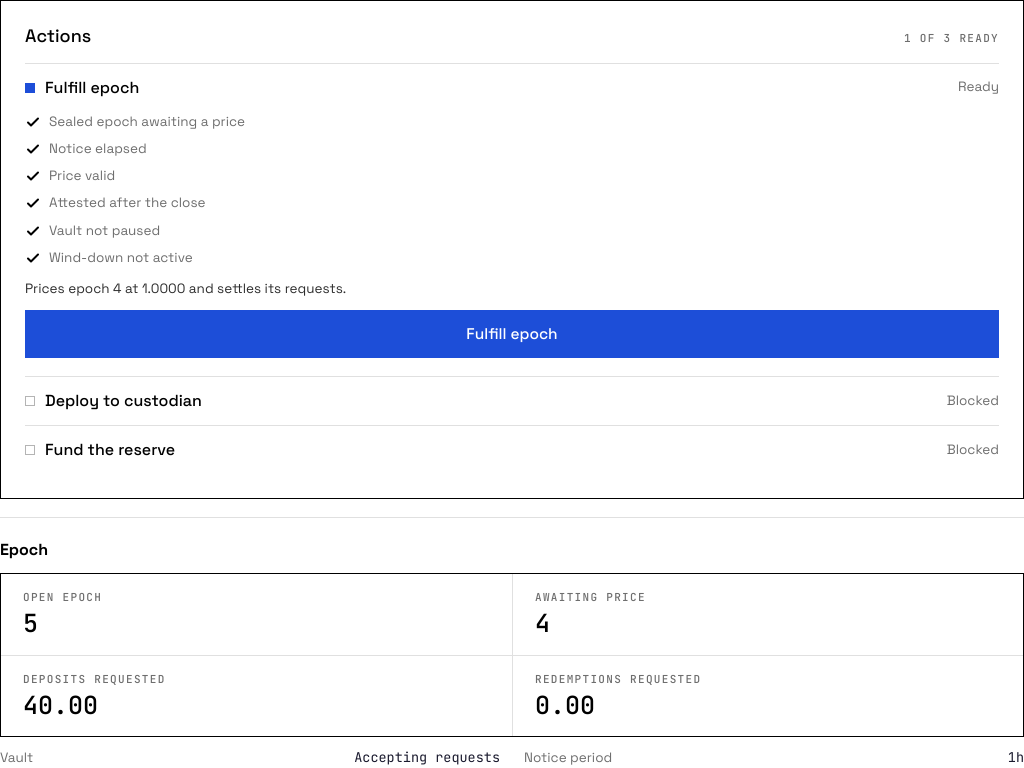
CycleSection › says the balance is unavailable and holds the funding while the wallet's balance cannot be read
Click the button "Fund the reserve Blocked" at (110, 450), box 25,426 -> 999,474
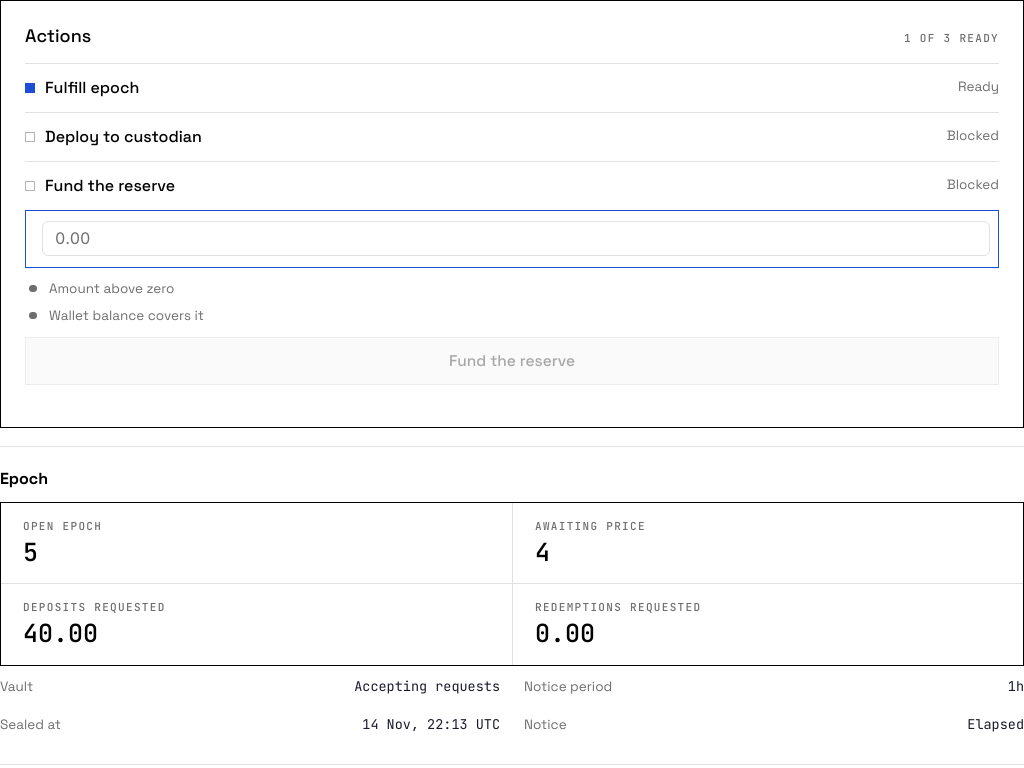
Type "100" into the field named "Amount to fund" at (516, 238), box 42,221 -> 990,256
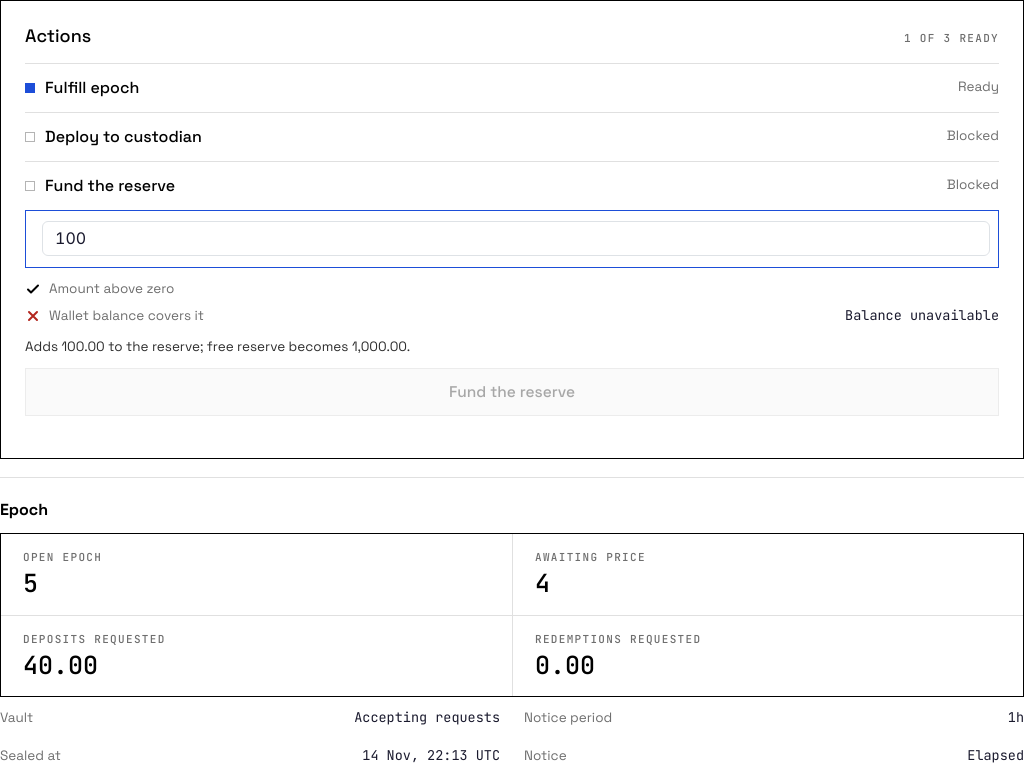
Check: the button "Fund the reserve" is disabled, box 25,368 -> 999,416
Check: the text "Balance unavailable" is shown, box 845,306 -> 999,325
